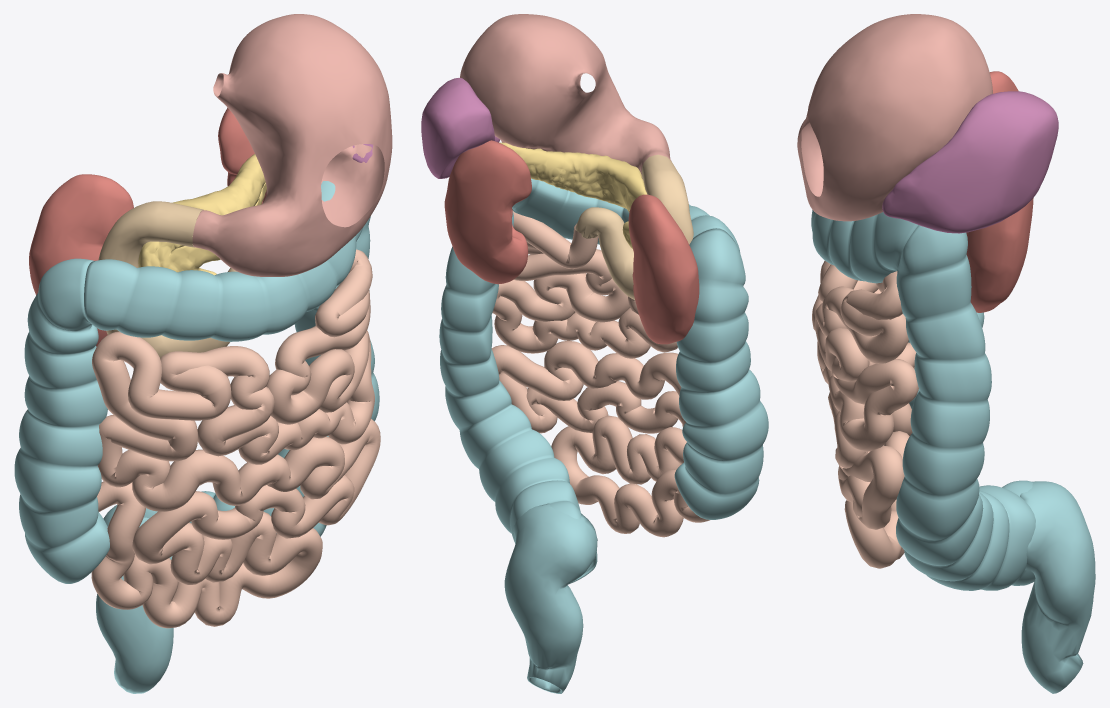
File: abdomen-core-mobile.glb
The picture shows the model from 3 angles, left to right: view 1: azimuth 30°, elevation 25°; view 2: azimuth 150°, elevation 25°; view 3: azimuth 270°, elevation 25°; orthographic projection. The views are drawn at different scales.
Parts seen in each view (by area): view 1: organ.jejunum, organ.stomach, organ.colon.ascending, organ.colon.transverse, organ.kidney.r, organ.duodenum, organ.colon.sigmoid, organ.pancreas, organ.colon.descending, organ.kidney.l; view 2: organ.jejunum, organ.colon.ascending, organ.stomach, organ.colon.descending, organ.colon.sigmoid, organ.kidney.l, organ.kidney.r, organ.duodenum, organ.pancreas, organ.spleen, organ.colon.transverse; view 3: organ.colon.descending, organ.stomach, organ.jejunum, organ.spleen, organ.colon.sigmoid, organ.colon.transverse, organ.kidney.l.
Boxes of the visible parts, x1,y1,x2,y2 form: organ.jejunum: (91, 249, 380, 628); organ.stomach: (192, 14, 392, 276); organ.colon.ascending: (14, 258, 109, 583); organ.colon.transverse: (84, 181, 362, 341); organ.kidney.r: (29, 174, 133, 346); organ.duodenum: (98, 201, 237, 358); organ.colon.sigmoid: (96, 505, 173, 693); organ.pancreas: (138, 154, 266, 275); organ.colon.descending: (144, 216, 379, 559); organ.kidney.l: (218, 108, 266, 203); organ.jejunum: (491, 211, 709, 537); organ.colon.ascending: (674, 228, 768, 519); organ.stomach: (460, 14, 671, 175); organ.colon.descending: (439, 211, 597, 584); organ.colon.sigmoid: (504, 503, 597, 693); organ.kidney.l: (444, 140, 531, 284); organ.kidney.r: (628, 194, 699, 344); organ.duodenum: (575, 154, 693, 299); organ.pancreas: (499, 142, 647, 248); organ.spleen: (421, 78, 499, 178); organ.colon.transverse: (512, 178, 740, 252); organ.colon.descending: (896, 225, 1035, 590); organ.stomach: (797, 14, 992, 221); organ.jejunum: (812, 261, 918, 568); organ.spleen: (882, 91, 1058, 233); organ.colon.sigmoid: (1020, 481, 1095, 693); organ.colon.transverse: (811, 210, 918, 283); organ.kidney.l: (966, 198, 1033, 312).
Size of the model in its own units: 0.2281 by 0.4254 by 0.1606.
